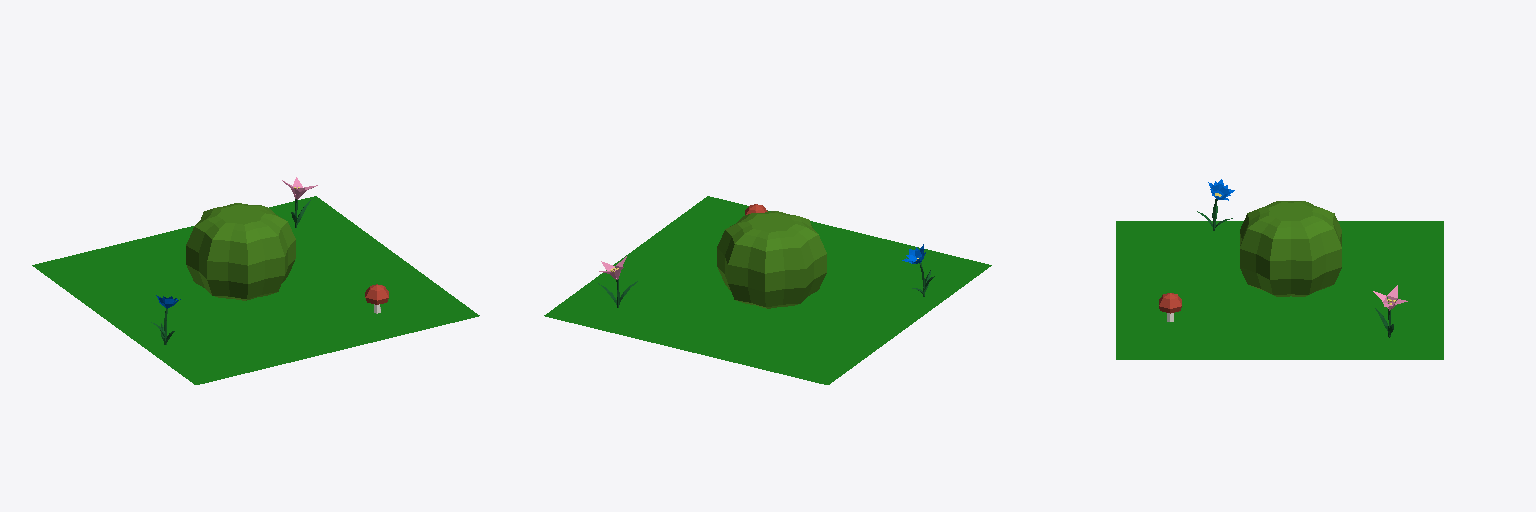
Rendered from flowers.obj.
The picture shows the model from 3 angles: view 1: azimuth 30°, elevation 25°; view 2: azimuth 150°, elevation 25°; view 3: azimuth 270°, elevation 25°; orthographic projection.
Parts seen in each view (by area): view 1: mergedBlocks; view 2: mergedBlocks; view 3: mergedBlocks.
Part boxes in pixels (x1,y1,x2,y2): mergedBlocks: (32,177,479,384); mergedBlocks: (544,196,991,384); mergedBlocks: (1116,179,1443,359).
Size of the model in its own units: 3 by 0.8 by 3.